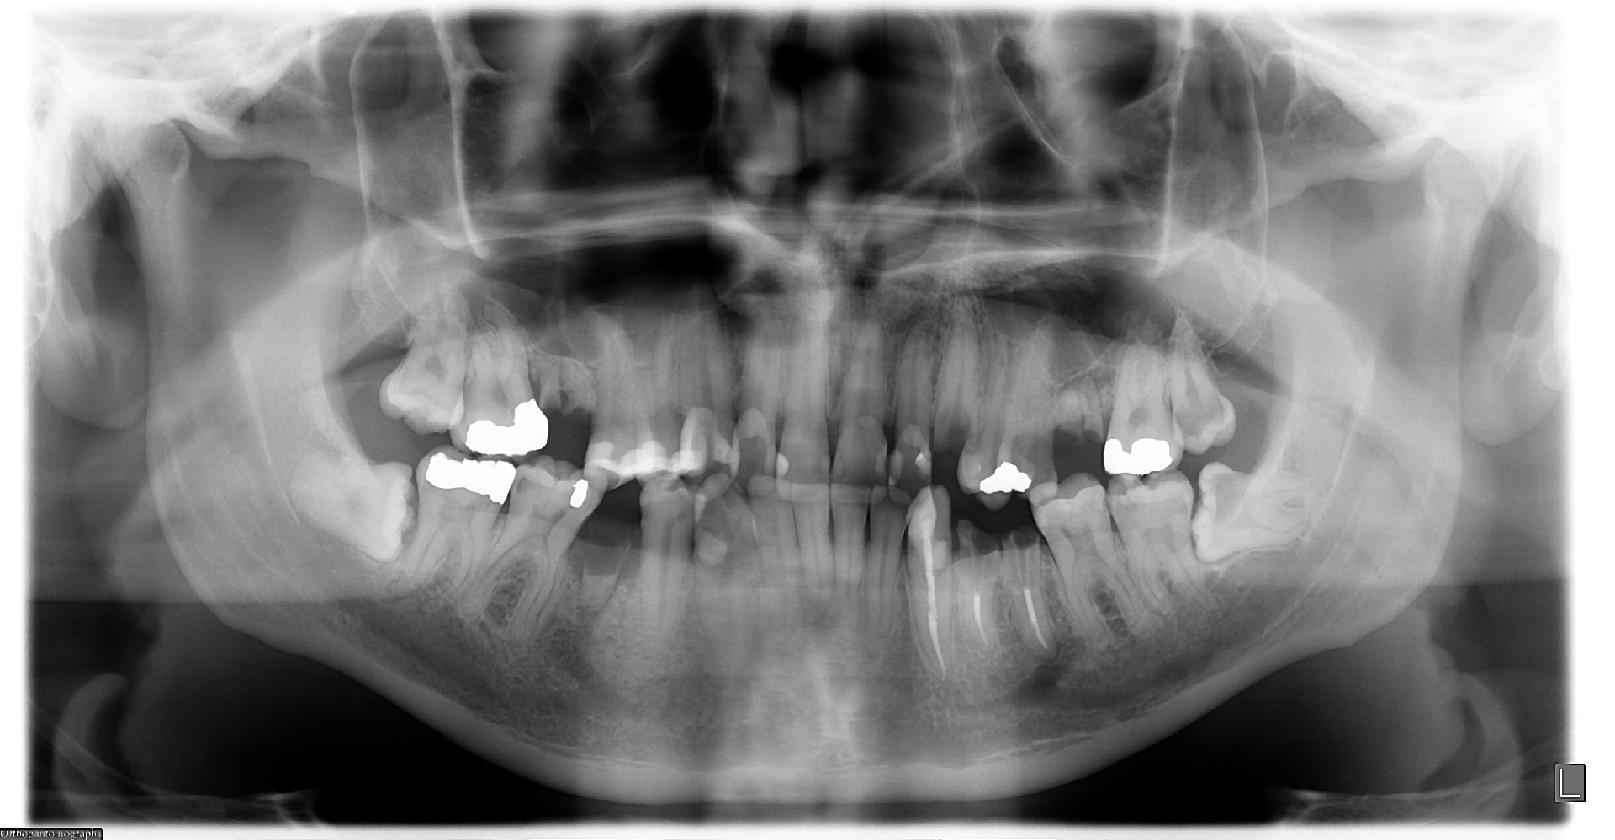Horizontal: (1192, 452, 1329, 571), (289, 449, 415, 570)
